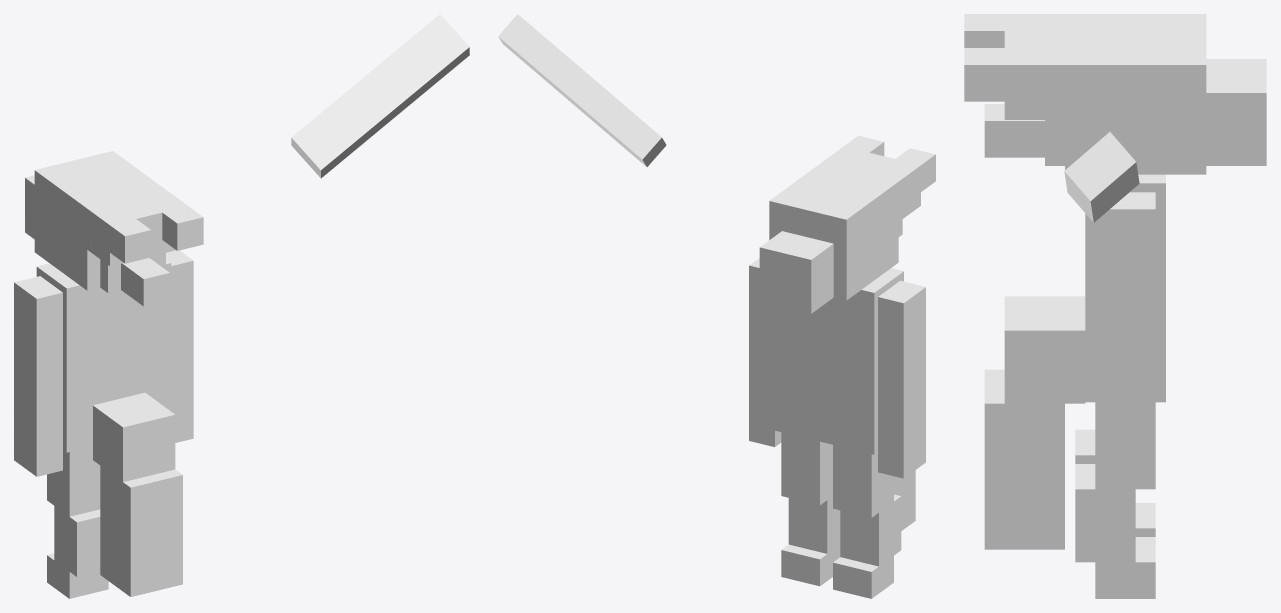
Rendered from expie_cubyzz.glb.
The picture shows the model from 3 angles, left to right: view 1: azimuth 30°, elevation 25°; view 2: azimuth 150°, elevation 25°; view 3: azimuth 270°, elevation 25°; orthographic projection. The views are drawn at different scales.
Parts seen in each view (by area): view 1: Torso.001, RightArm.002, Tail.002, LeftArm.001, Head.001, Tail.001, RightArm.001, RightLeg.001, RightLeg.002, Head.005, Head.003, Head.004 (+5 smaller); view 2: Torso.001, Head.001, LeftArm.001, RightArm.002, Head.008, RightArm.001, RightLeg.001, LeftLeg.003, RightLeg.002, LeftLeg.002, RightLeg.003, LeftLeg.001 (+4 smaller); view 3: Head.001, RightArm.001, Tail.002, Tail.001, Head.008, LeftLeg.002, Head.007, Torso.001, RightArm.002, LeftLeg.001, LeftLeg.003, Head.003 (+6 smaller).
Boxes of the visible parts, x1=… form: Torso.001: x1=36, y1=259, x2=171, y2=452; RightArm.002: x1=291, y1=14, x2=469, y2=178; Tail.002: x1=100, y1=466, x2=182, y2=596; LeftArm.001: x1=14, y1=276, x2=62, y2=476; Head.001: x1=34, y1=151, x2=165, y2=290; Tail.001: x1=93, y1=392, x2=175, y2=481; RightArm.001: x1=166, y1=250, x2=193, y2=442; RightLeg.001: x1=47, y1=446, x2=100, y2=516; RightLeg.002: x1=54, y1=506, x2=100, y2=576; Head.005: x1=87, y1=199, x2=149, y2=266; Head.003: x1=121, y1=258, x2=169, y2=306; Head.004: x1=110, y1=219, x2=151, y2=263; Torso.001: x1=771, y1=268, x2=903, y2=454; Head.001: x1=769, y1=163, x2=898, y2=300; LeftArm.001: x1=878, y1=280, x2=925, y2=478; RightArm.002: x1=498, y1=14, x2=666, y2=166; Head.008: x1=759, y1=231, x2=833, y2=313; RightArm.001: x1=749, y1=258, x2=781, y2=446; RightLeg.001: x1=833, y1=445, x2=893, y2=517; LeftLeg.003: x1=781, y1=432, x2=832, y2=505; RightLeg.002: x1=840, y1=494, x2=901, y2=566; LeftLeg.002: x1=788, y1=496, x2=840, y2=553; RightLeg.003: x1=833, y1=556, x2=893, y2=598; LeftLeg.001: x1=781, y1=544, x2=840, y2=586; Head.001: x1=1065, y1=14, x2=1206, y2=174; RightArm.001: x1=1095, y1=192, x2=1155, y2=446; Tail.002: x1=984, y1=369, x2=1064, y2=549; Tail.001: x1=1004, y1=296, x2=1085, y2=403; Head.008: x1=1206, y1=59, x2=1266, y2=165; LeftLeg.002: x1=1075, y1=464, x2=1135, y2=562; Head.007: x1=1004, y1=39, x2=1064, y2=119; Torso.001: x1=1085, y1=174, x2=1165, y2=402; RightArm.002: x1=1064, y1=132, x2=1139, y2=222; LeftLeg.001: x1=1095, y1=537, x2=1155, y2=598; LeftLeg.003: x1=1095, y1=446, x2=1155, y2=489; Head.003: x1=984, y1=104, x2=1044, y2=157.
Size of the model in its own units: 2.06 by 2.23 by 0.9375.
1 material, 1 textured.
